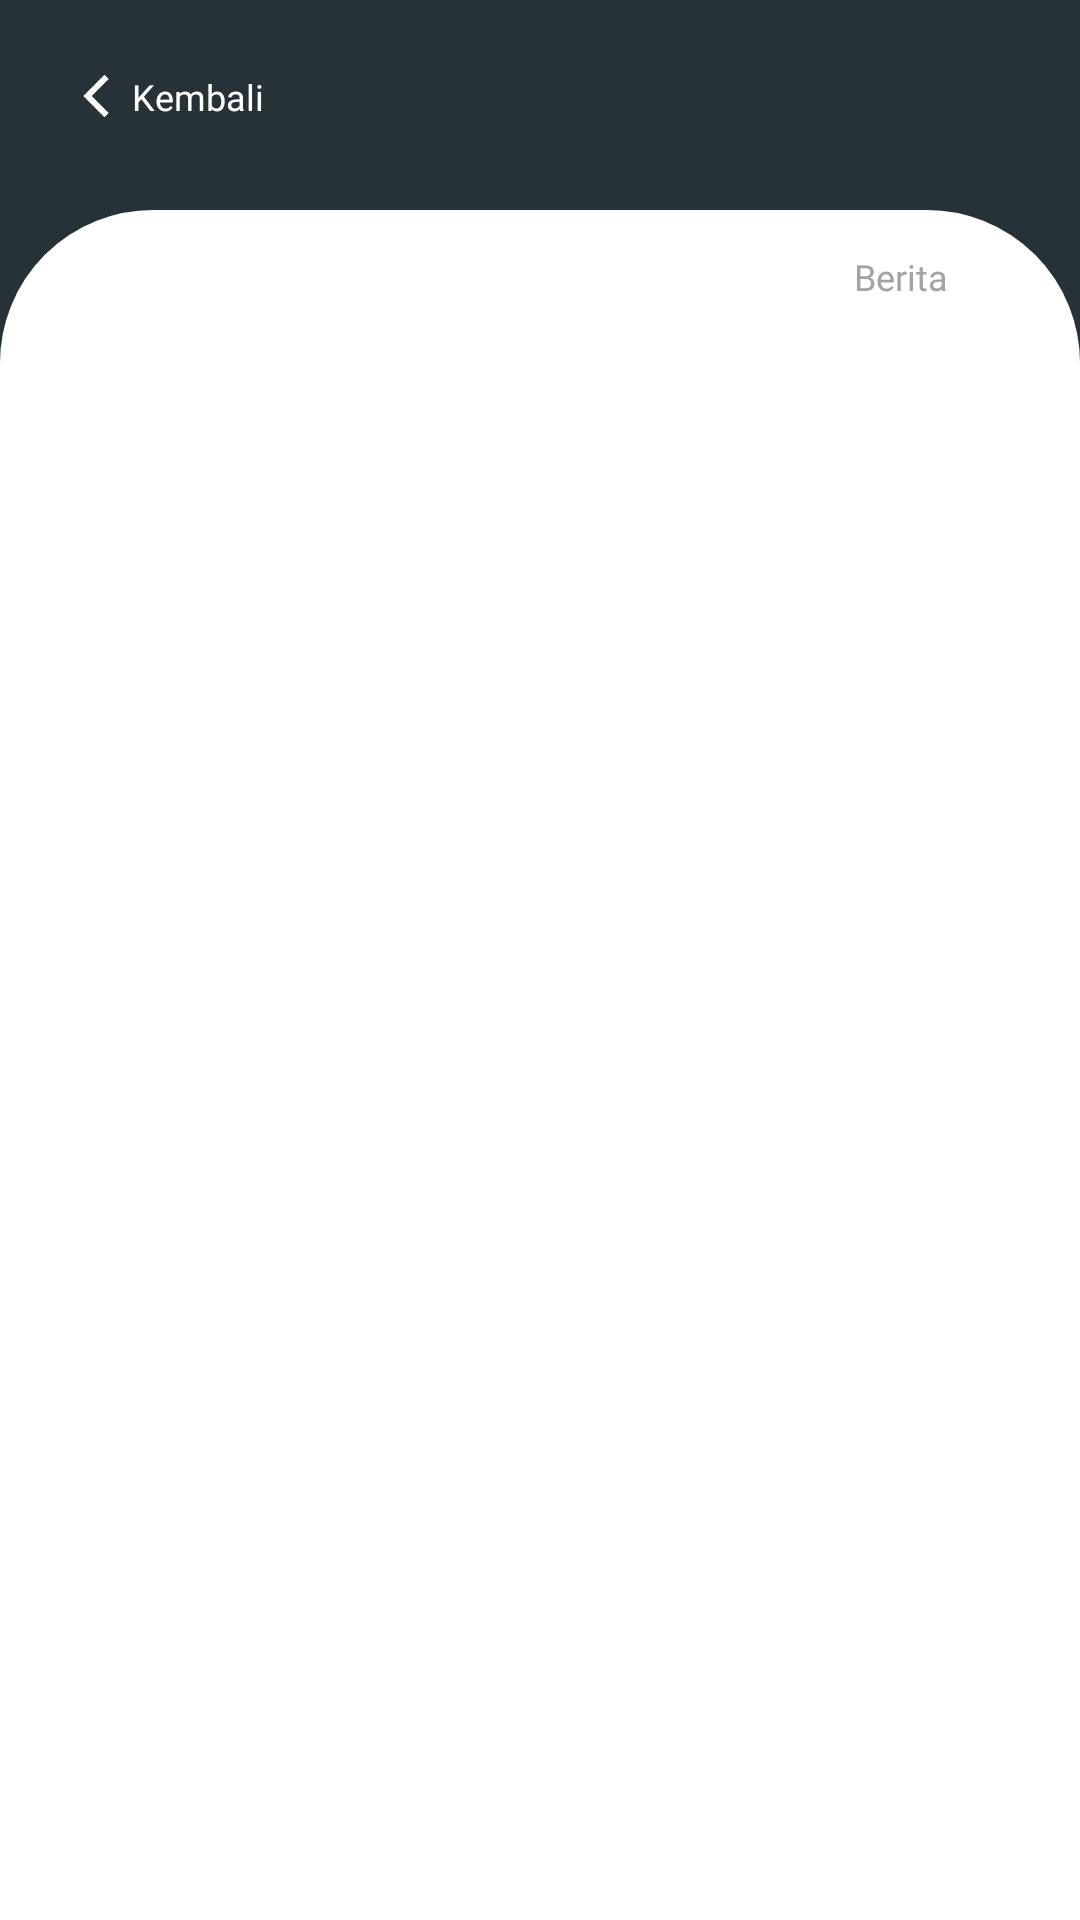

Screen size 1080px×1920px. Icon name, then its box in pixels as (x1, y1, x2, y2):
chevron left: (83, 75, 109, 117)
